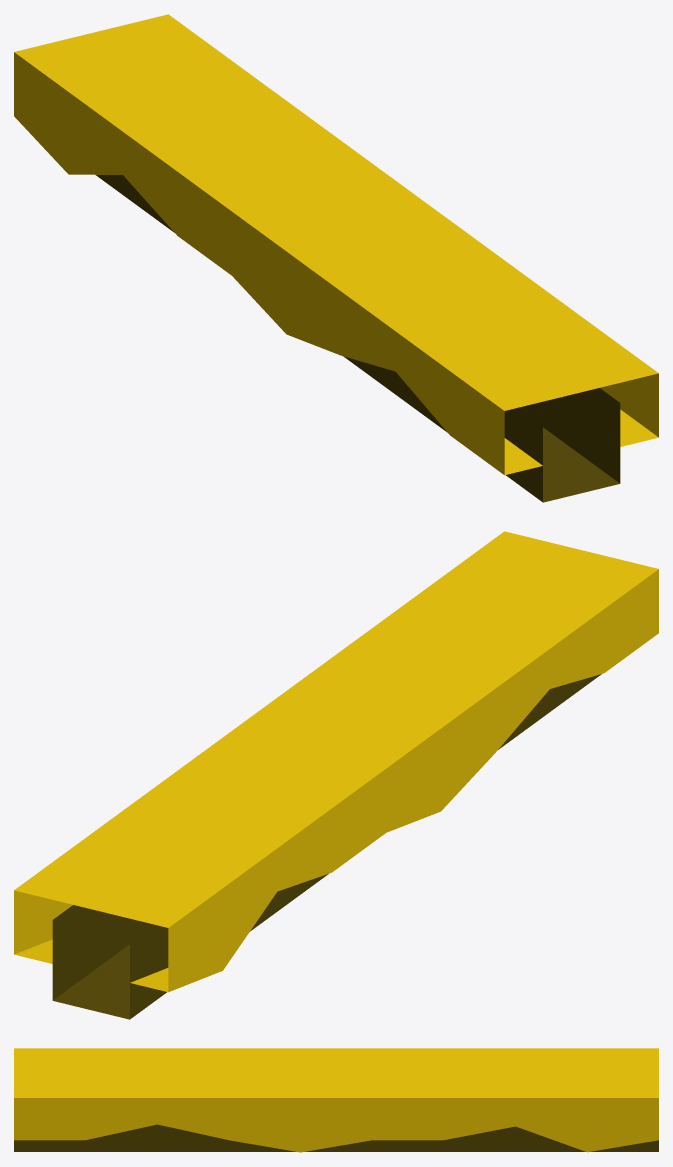
Rendered from suelo.glb.
3 renders of one model, top to bottom at view 1: azimuth 30°, elevation 25°; view 2: azimuth 150°, elevation 25°; view 3: azimuth 270°, elevation 25°, orthographic. The views are drawn at different scales.
Parts seen in each view (by area): view 1: suelo-rigid; view 2: suelo-rigid; view 3: suelo-rigid.
Boxes of the visible parts, box(x1,y1,x2,y2) form: suelo-rigid: box(14, 14, 658, 502); suelo-rigid: box(14, 531, 658, 1019); suelo-rigid: box(14, 1048, 658, 1152).
Bounding box in the file's own units: 4 × 2.5 × 22.
